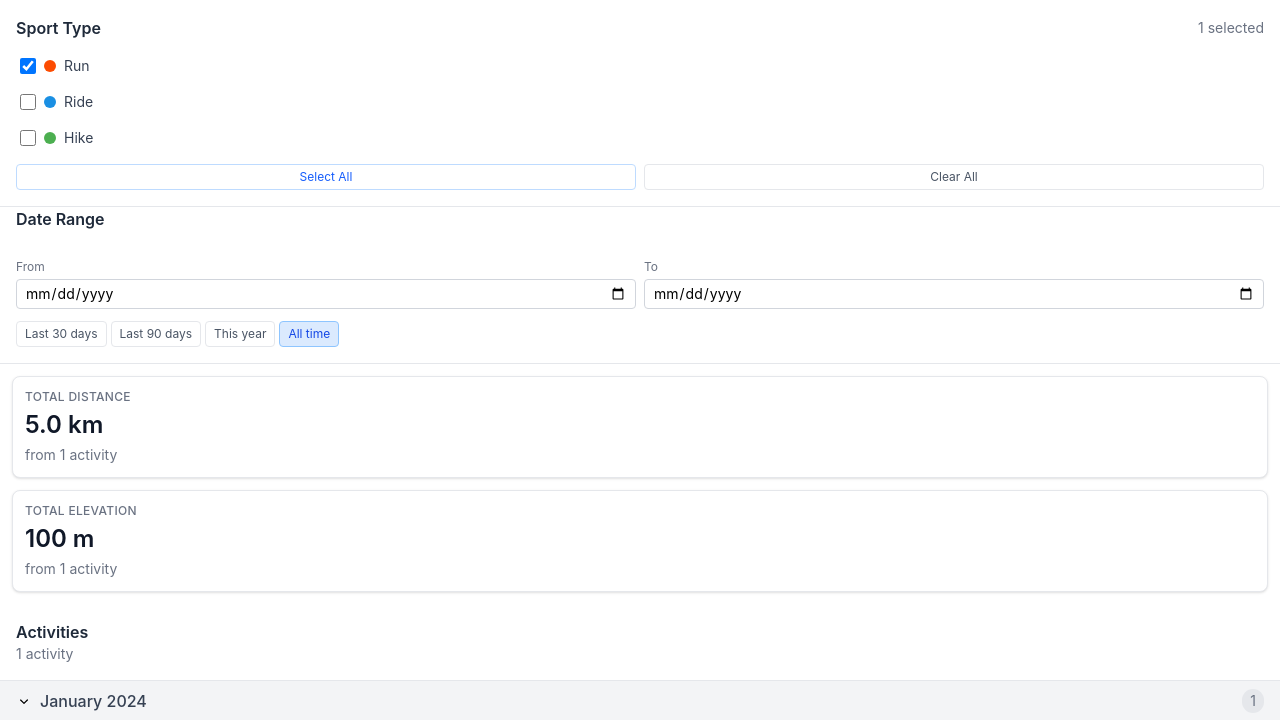
Test: SidebarPanel › shows all activities when Select All is clicked
Click the button "Select All": (326,177) [16,164,636,190]
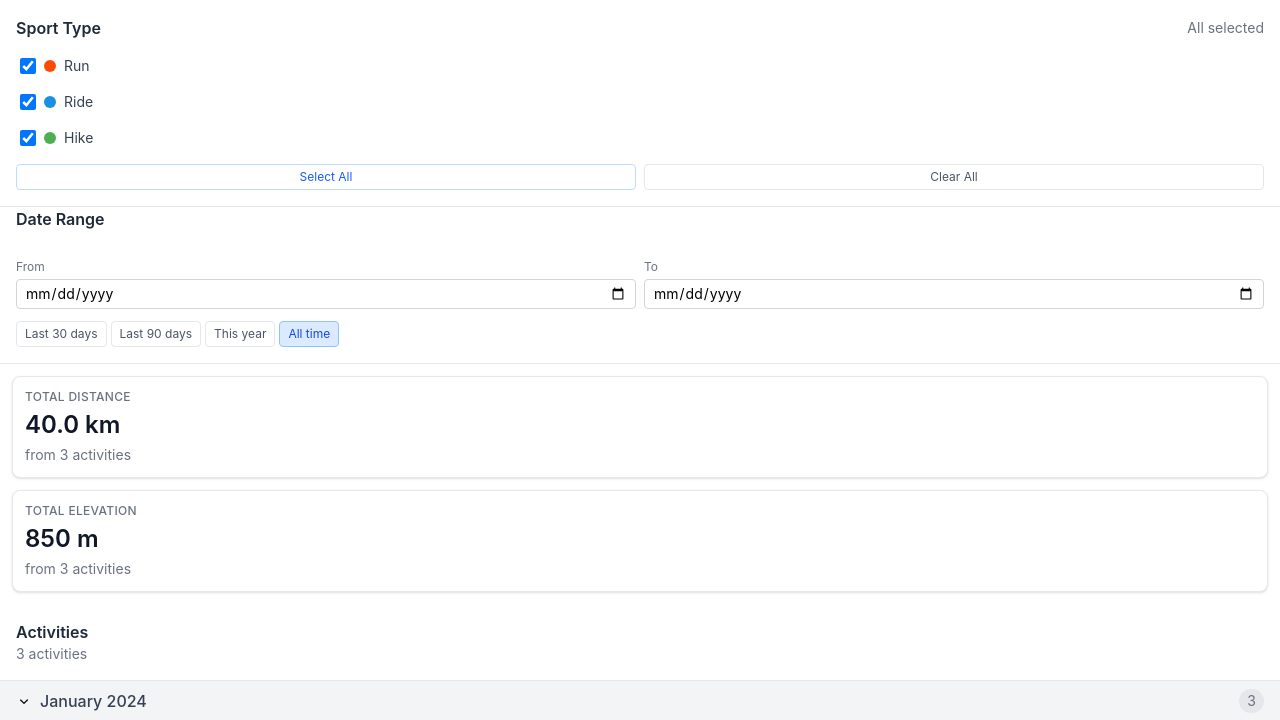
Expected: the text "3 activities" is shown, [16,645,87,662]
